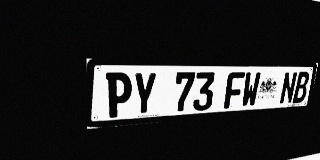3: (193, 72, 215, 111)
7: (172, 72, 195, 113)
B: (292, 72, 310, 103)
F: (224, 72, 245, 109)
N: (279, 72, 298, 104)
P: (106, 72, 132, 118)
W: (241, 72, 261, 107)
Y: (132, 72, 157, 116)
